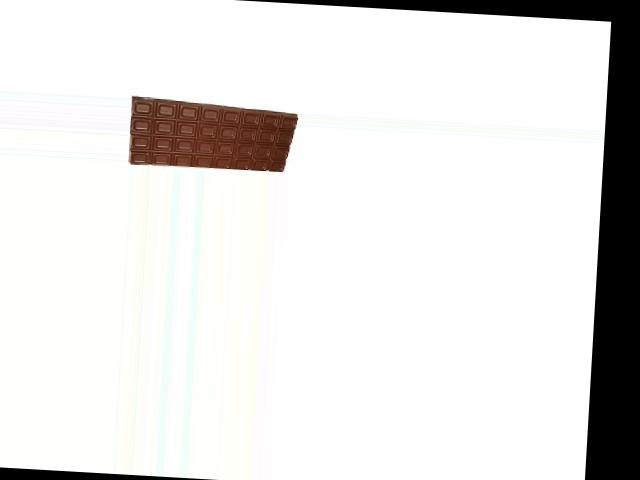chocolate: (126, 98, 300, 173)
